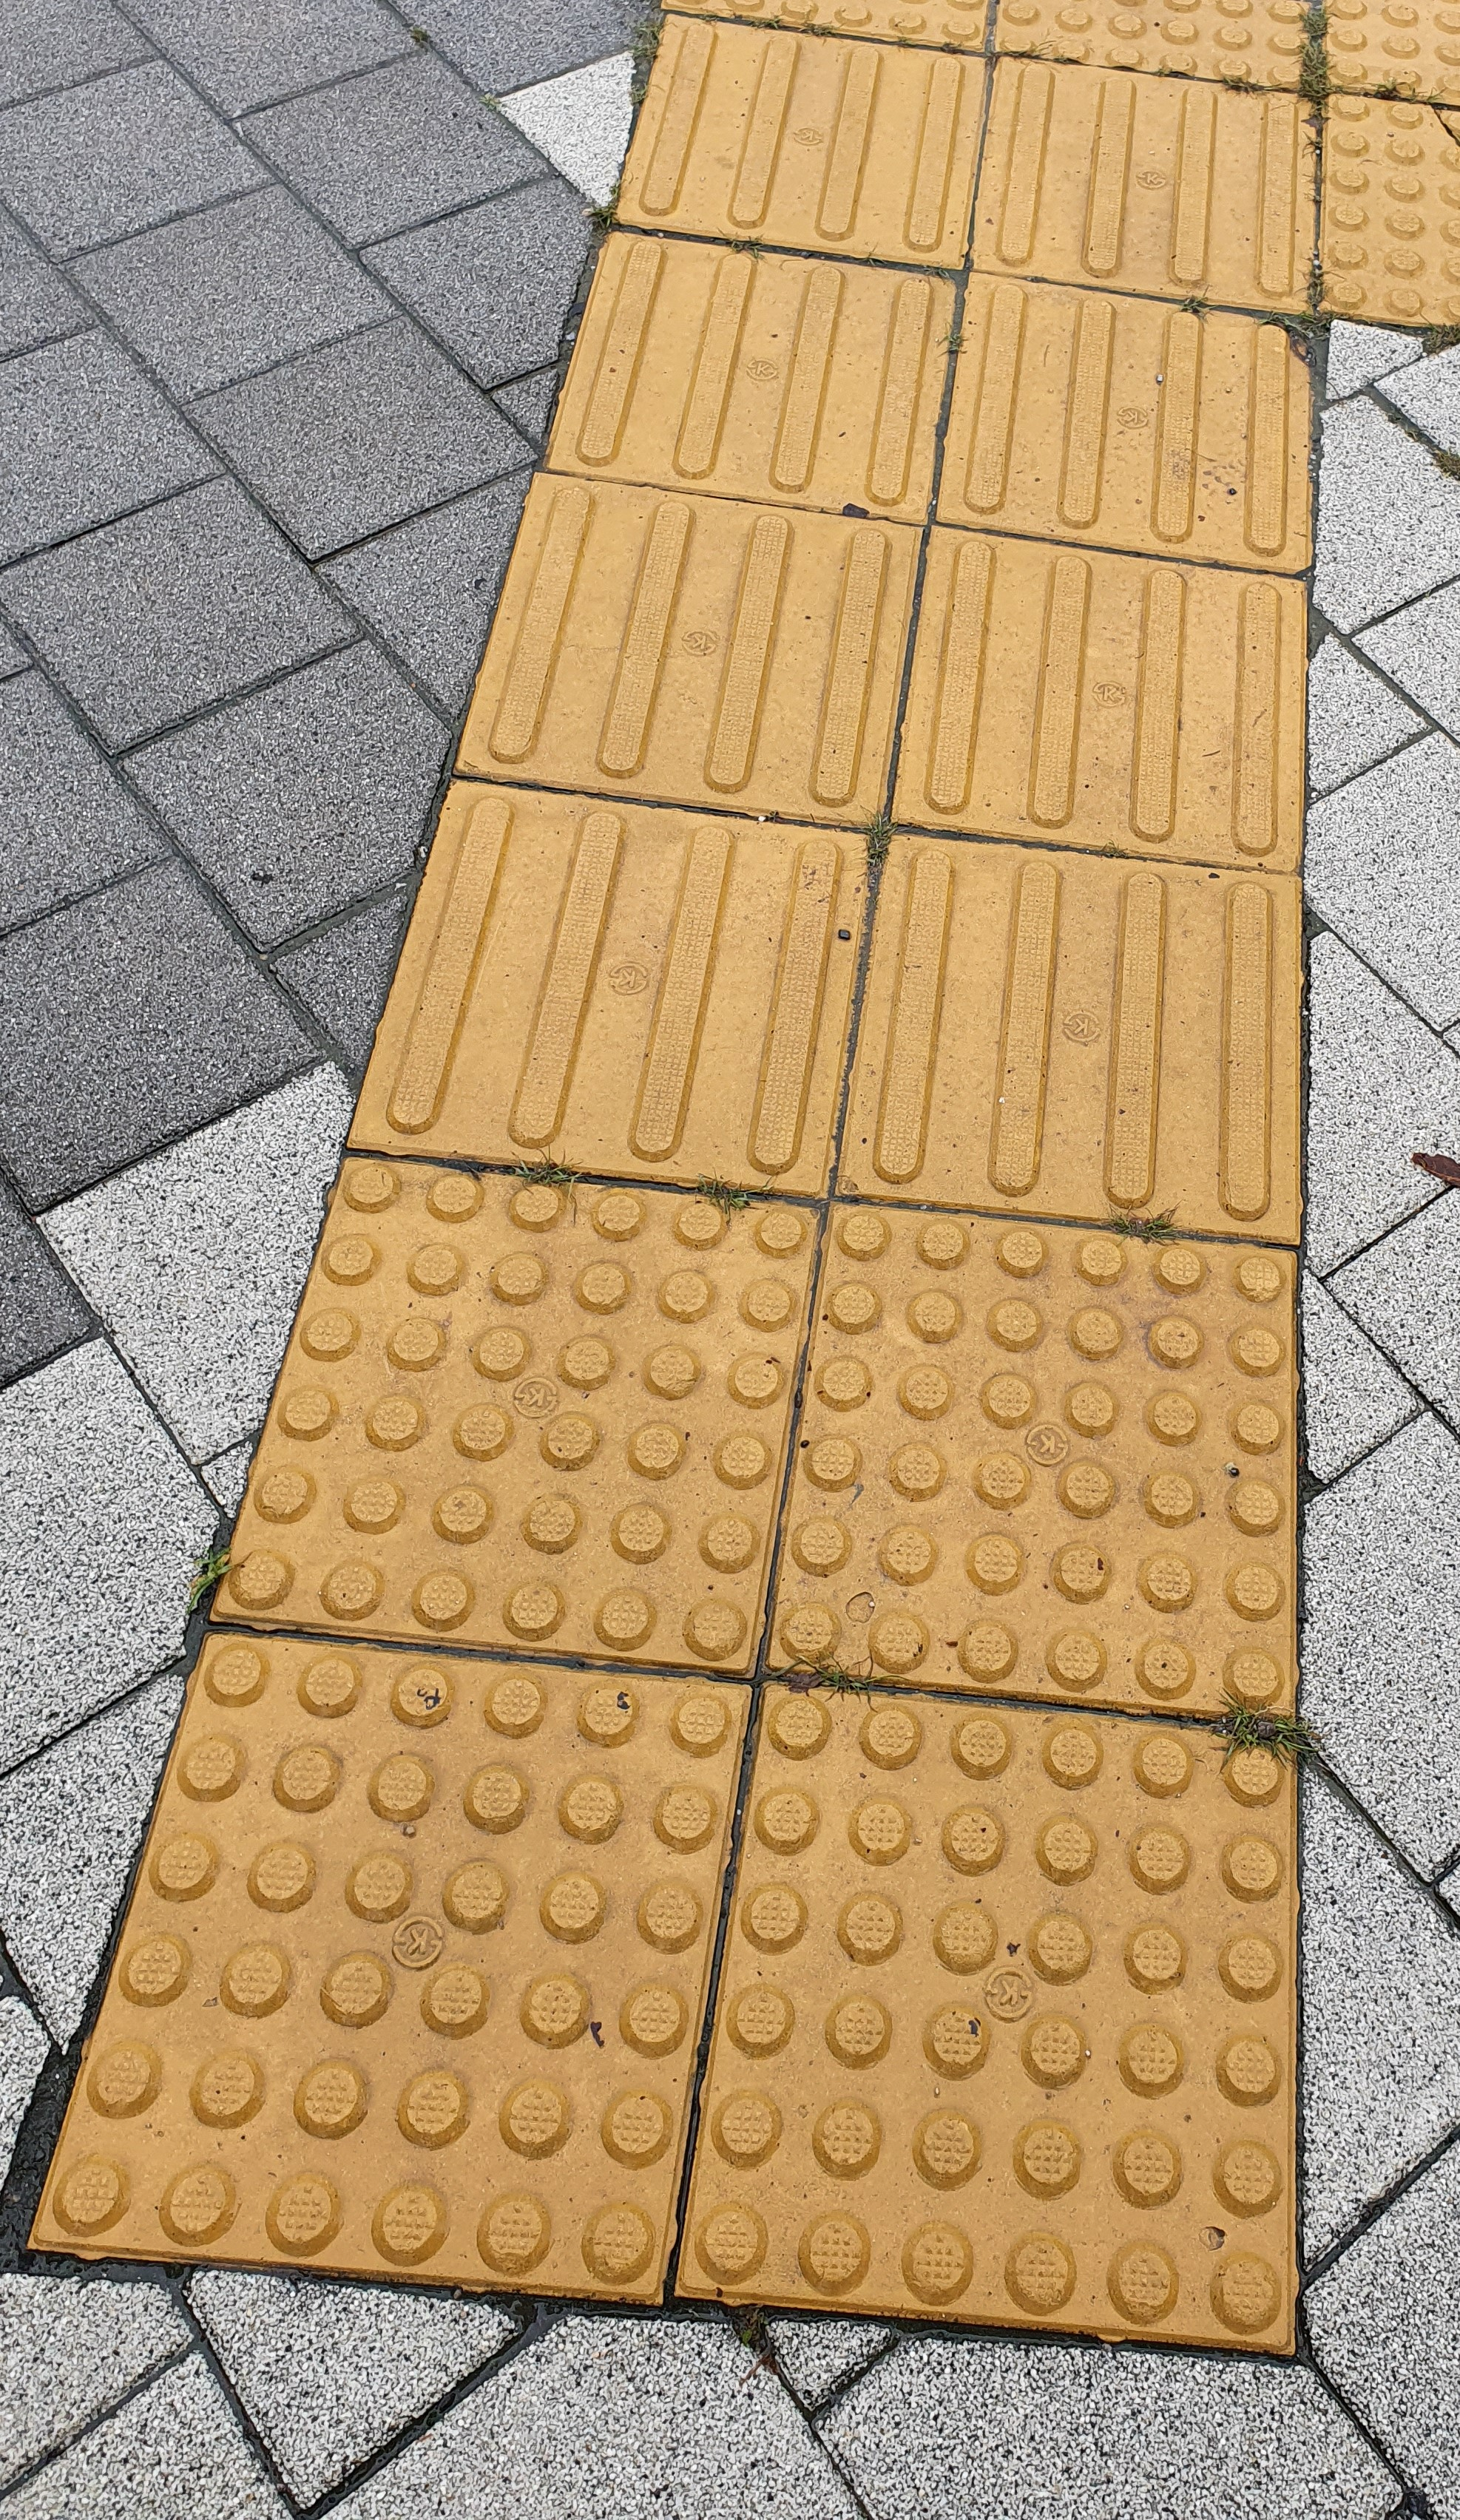guideBlock: (873, 818, 1300, 1230), (422, 802, 874, 1181), (541, 182, 954, 552), (935, 306, 1361, 613), (501, 481, 892, 797), (963, 544, 1295, 912), (669, 63, 979, 290), (984, 71, 1297, 285)
warningBlock: (688, 1704, 1295, 2322), (122, 1633, 725, 2228), (787, 1249, 1305, 1744), (325, 1183, 777, 1672)
